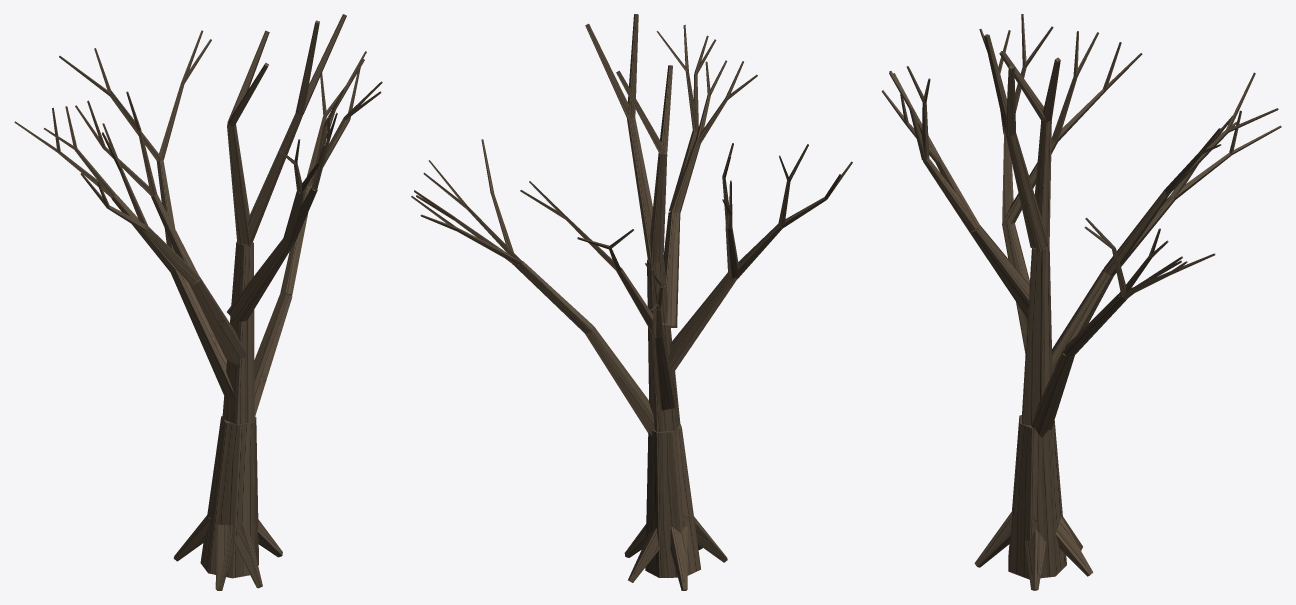
File: tree_dead_01.glb
The picture shows the model from 3 angles, left to right: view 1: azimuth 30°, elevation 25°; view 2: azimuth 150°, elevation 25°; view 3: azimuth 270°, elevation 25°; orthographic projection. The views are drawn at different scales.
Visible parts, largest first — view 1: tree_dead_01; view 2: tree_dead_01; view 3: tree_dead_01.
Part boxes in pixels (x1,y1,x2,y2): tree_dead_01: (14, 14, 382, 590); tree_dead_01: (411, 14, 852, 590); tree_dead_01: (881, 14, 1281, 590).
Size of the model in its own units: 4.19 by 6.02 by 3.87.
Materials: 1 (1 with a texture image).
